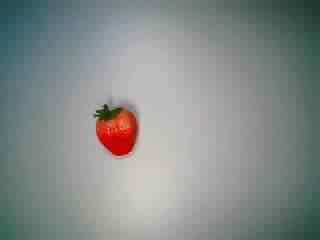strawberry: (86, 91, 152, 157)
